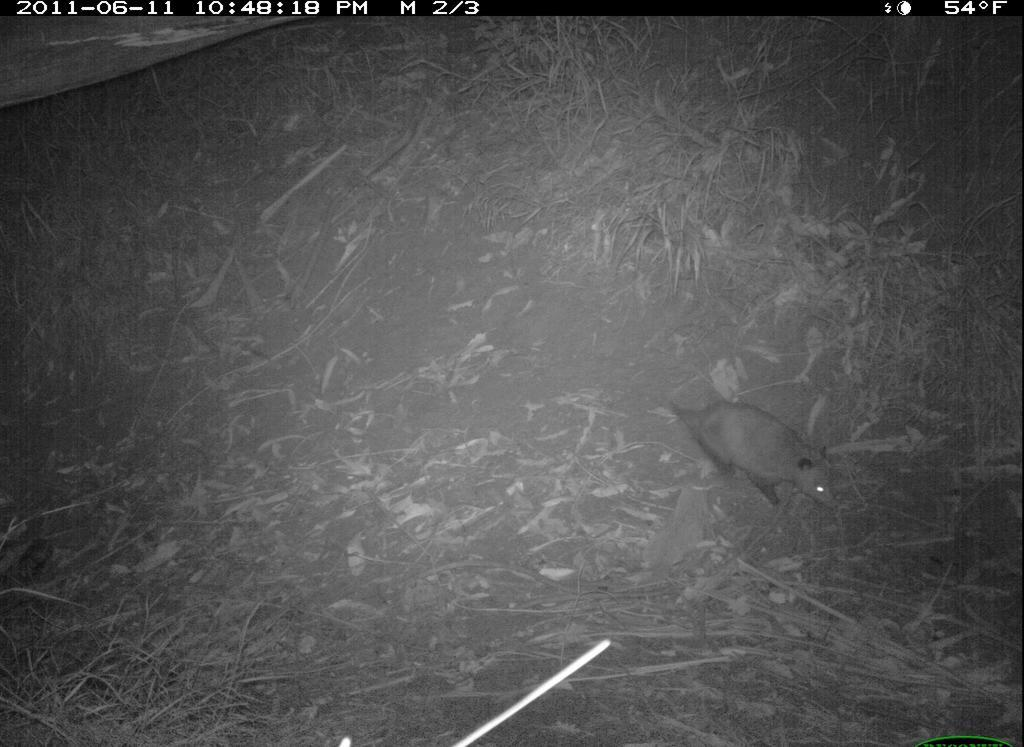opossum: (637, 370, 853, 524)
